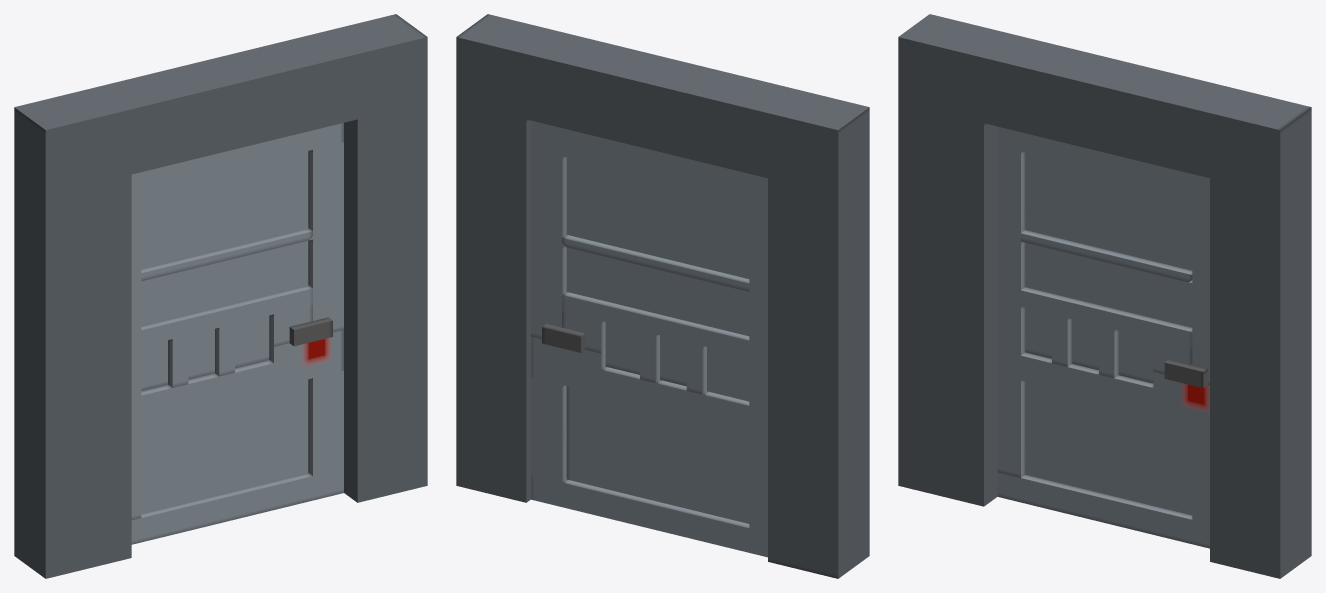
File: dzw_wyjs_dom.dae
3 renders of one model, left to right at view 1: azimuth 30°, elevation 25°; view 2: azimuth 150°, elevation 25°; view 3: azimuth 330°, elevation 25°, orthographic.
Parts seen in each view (by area): view 1: Content; view 2: Content; view 3: Content.
Boxes of the visible parts, box(x1,y1,x2,y2) form: Content: box(14, 14, 427, 578); Content: box(456, 14, 869, 578); Content: box(898, 14, 1311, 578).
Size of the model in its own units: 49 by 55 by 7.
Materials: 1 (1 with a texture image).
